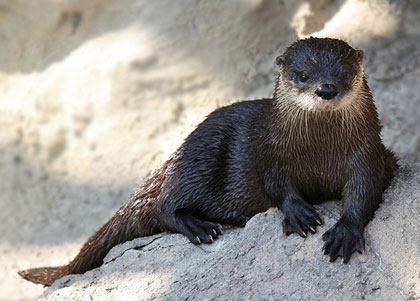otter: (27, 35, 419, 301)
